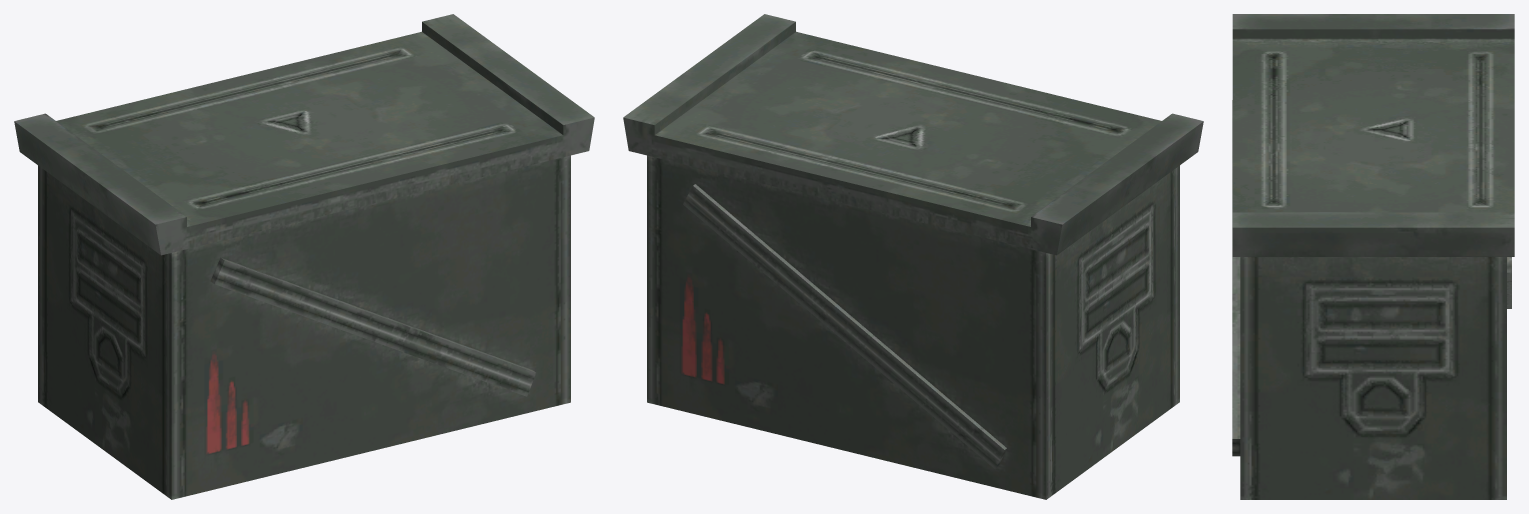
The model's file is Pickup_Sniperbullets1.glb.
The picture shows the model from 3 angles, left to right: view 1: azimuth 30°, elevation 25°; view 2: azimuth 150°, elevation 25°; view 3: azimuth 270°, elevation 25°; orthographic projection.
Visible parts, largest first — view 1: pk_SniperBullets_1; view 2: pk_SniperBullets_1; view 3: pk_SniperBullets_1.
Boxes of the visible parts, x1=… form: pk_SniperBullets_1: x1=14, y1=14, x2=594, y2=499; pk_SniperBullets_1: x1=623, y1=14, x2=1203, y2=499; pk_SniperBullets_1: x1=1232, y1=14, x2=1514, y2=499.
Bounding box in the file's own units: 0.4001 × 0.2463 × 0.2234.
1 material, 1 textured.
